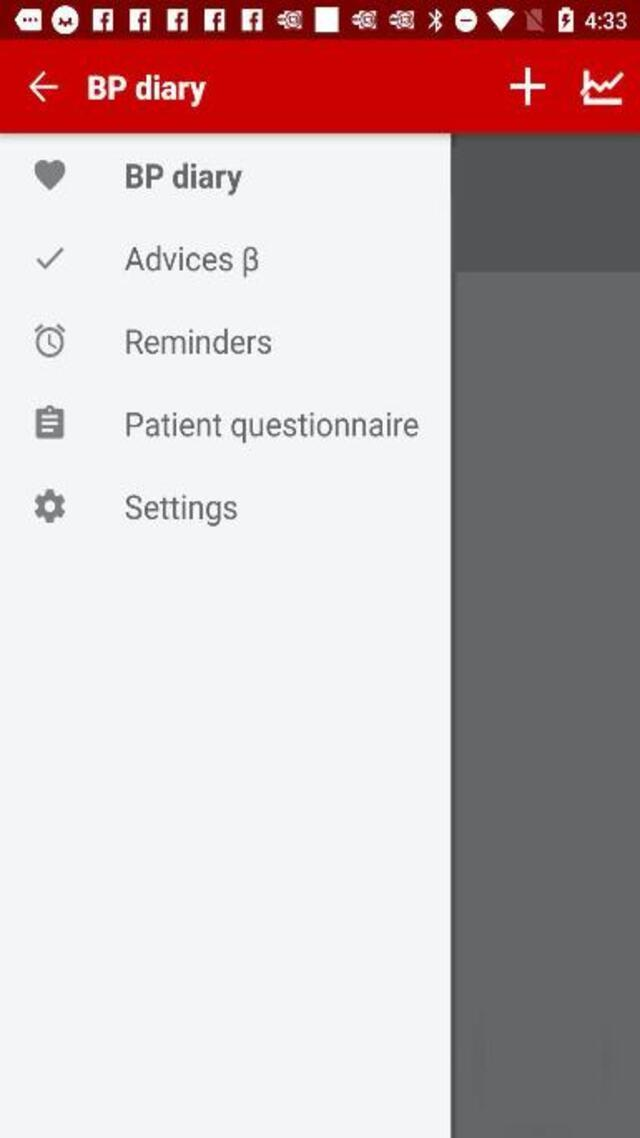Icon: (580, 68, 624, 106), (508, 68, 546, 106), (34, 322, 66, 358), (34, 490, 66, 524), (34, 158, 66, 191), (35, 404, 65, 438), (28, 71, 58, 103), (36, 246, 64, 270)
Text: (126, 411, 419, 443), (120, 161, 258, 198), (124, 244, 258, 278), (126, 328, 272, 356), (86, 72, 206, 106), (125, 494, 238, 528)
